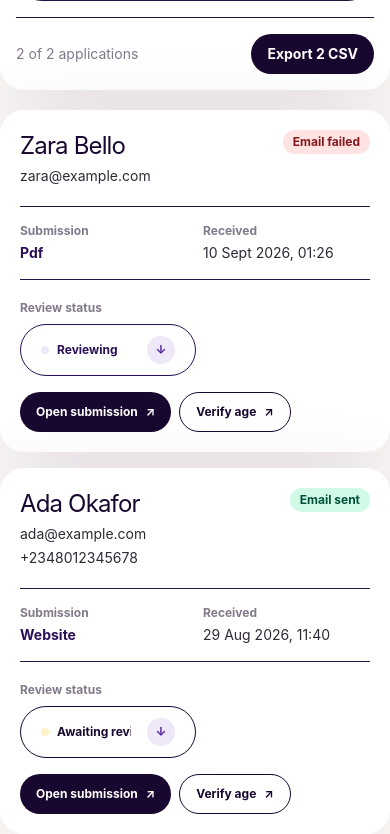
Test case: PrizeApplicationsTable › updates review status through the protected mutation
(page scrolled)
What coordinates should you click on to do the following:
click the button with aria-label "Review status for Ada Okafor"
I would click on:
 (108, 732)
Its box is [20, 706, 196, 758].
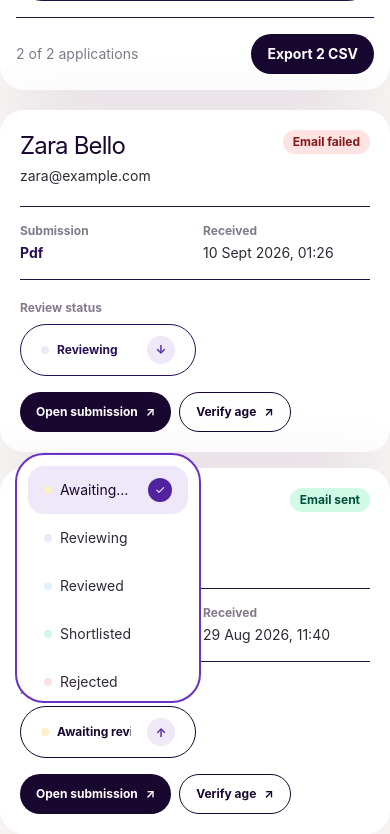
What coordinates should you click on to do the following:
click the option "Reviewed"
I would click on:
 (84, 586)
Its box is [44, 577, 124, 594].
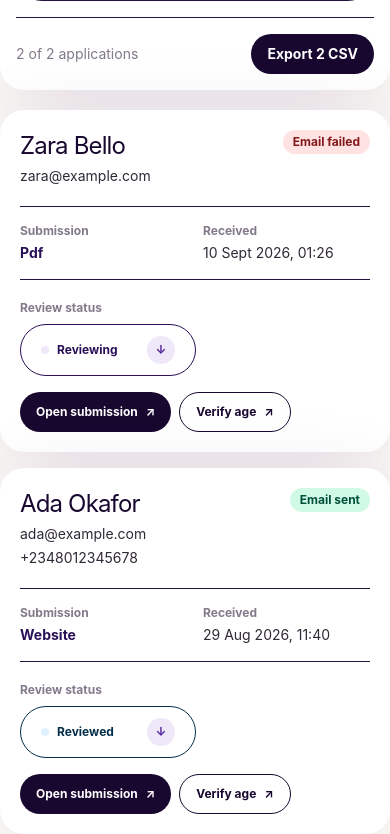
Now the button with aria-label "Review status for Ada Okafor" shows "Reviewed", box [20, 706, 196, 758]
